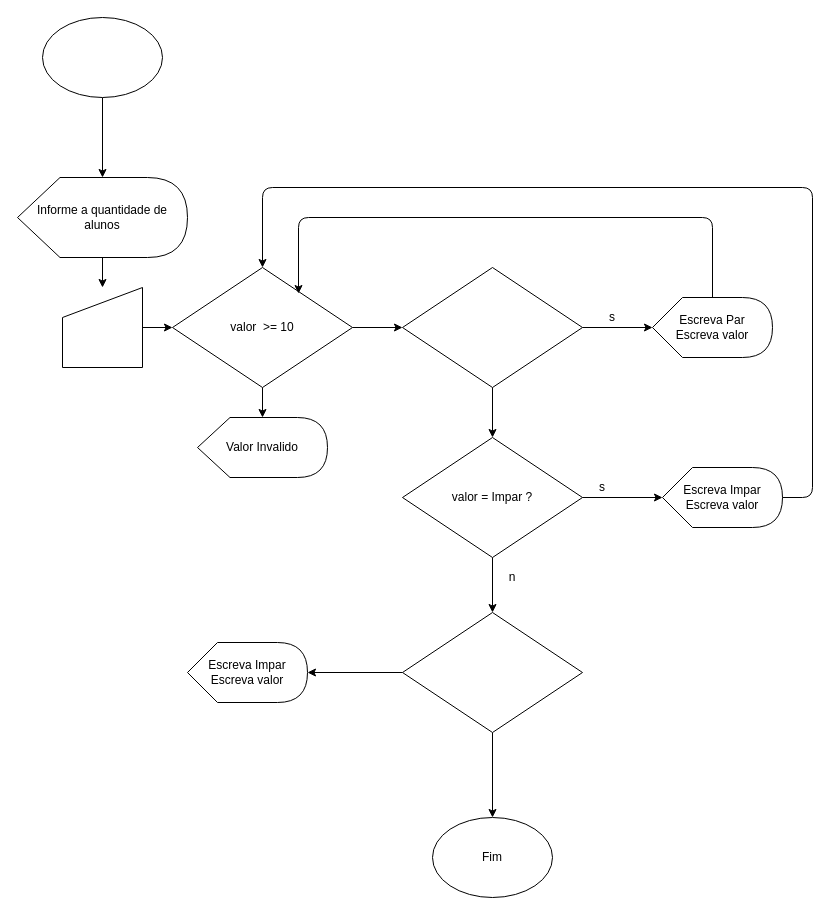
The diagram is 838 pixels wide and 915 high, and some of its shapes have lost their labels. Here are the shapes that lost their labels. From the top down, the centre of each, then its label:
At (x=102, y=57): "Inicio".
At (x=102, y=327): "valor".
At (x=492, y=327): "valor = Par ?".
At (x=492, y=672): "Escreva Zero Escreva Valor".
